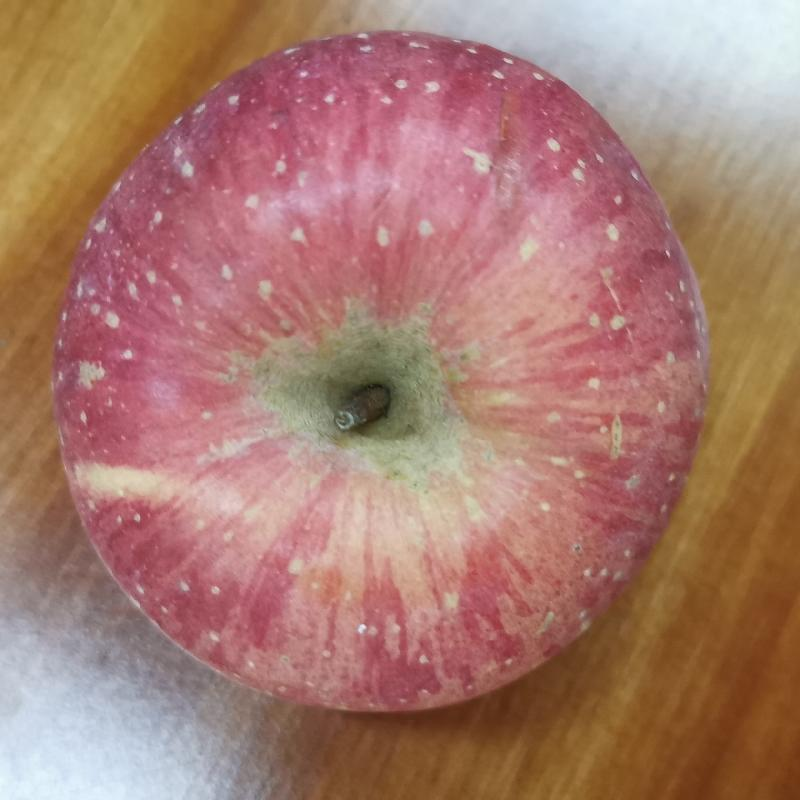apples: (153, 209, 629, 611)
